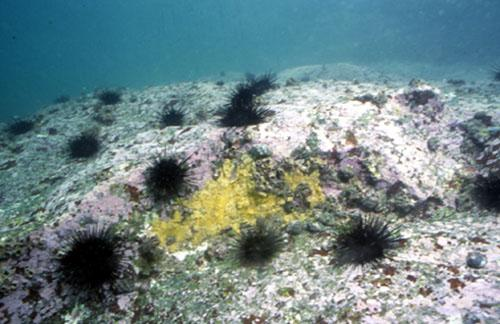urchin: (50, 217, 131, 298), (327, 208, 412, 278), (137, 142, 200, 205), (225, 217, 290, 269), (213, 99, 271, 129), (470, 170, 500, 218), (65, 128, 104, 162), (153, 104, 193, 128), (244, 68, 280, 92), (3, 115, 38, 138), (225, 87, 258, 103), (97, 89, 124, 105), (486, 61, 500, 86), (51, 92, 73, 105)
